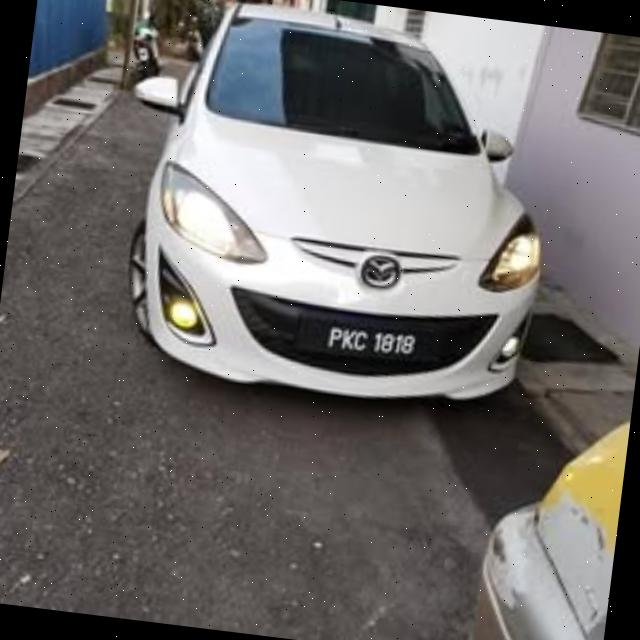License_Plate: (317, 325, 425, 363)
car: (97, 1, 569, 420)
